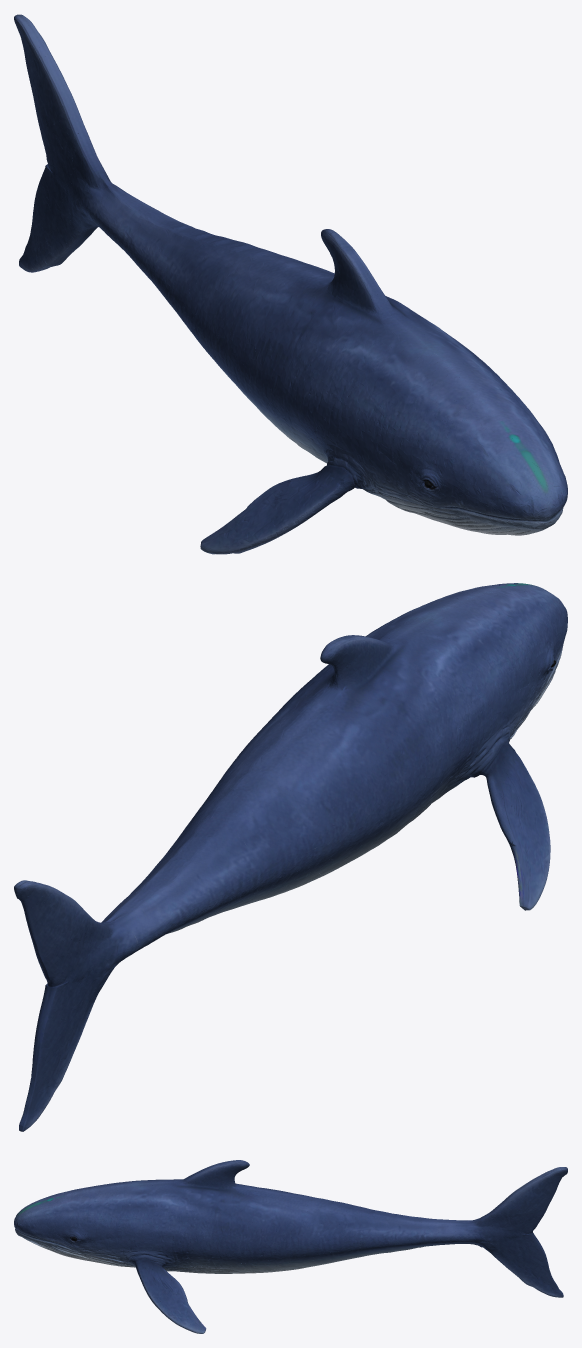
3 views of the same model, one above another, from view 1: azimuth 30°, elevation 25°; view 2: azimuth 150°, elevation 25°; view 3: azimuth 270°, elevation 25° (orthographic). The views are drawn at different scales.
Visible parts, largest first — view 1: world; view 2: world; view 3: world.
Part boxes in pixels (bbox=[...]): world: bbox=[14, 14, 567, 554]; world: bbox=[14, 583, 567, 1131]; world: bbox=[14, 1160, 567, 1333].
Size of the model in its own units: 0.3586 by 0.272 by 0.9999.
1 material, 1 textured.
